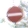No entry: (6, 6, 22, 23)
